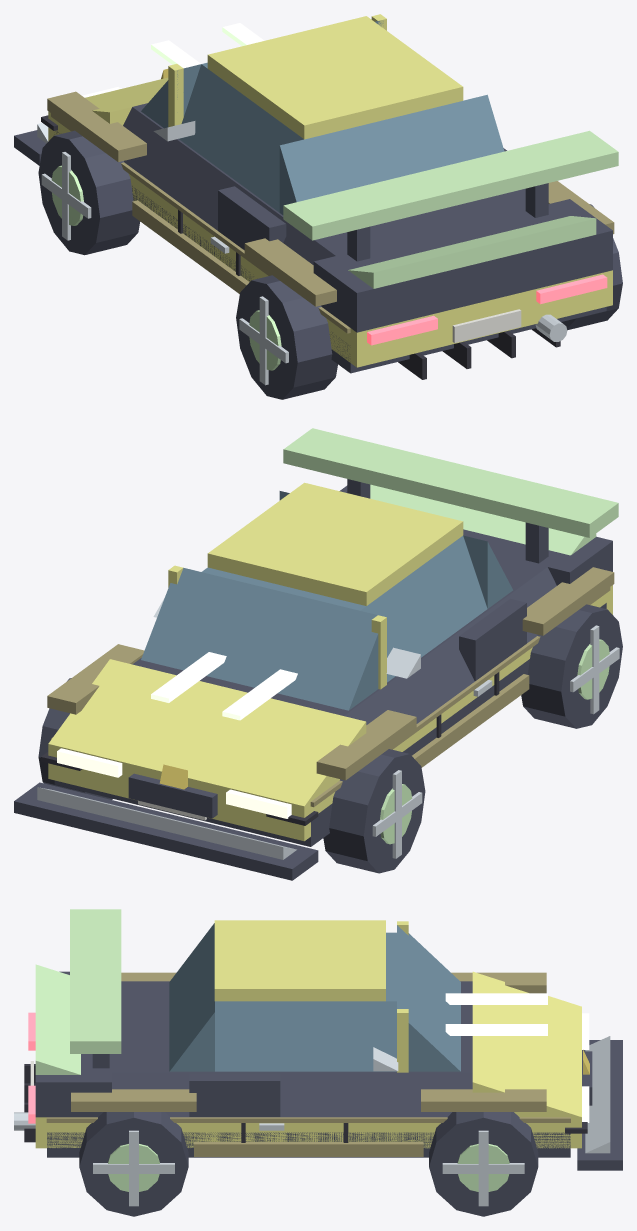
Rendered from downforce_dragon.glb.
3 views of the same model, one above another, from view 1: azimuth 30°, elevation 25°; view 2: azimuth 150°, elevation 25°; view 3: azimuth 270°, elevation 25° (orthographic). The views are drawn at different scales.
Visible parts, largest first — view 1: Roof.290, Tail.090, RearWing.053, RearWindow.190, Body.290, CabinSideL.087, Wheel_RL.250, Wheel_FL.250, ShoulderL.087, Ducktail.064, BodyUpper.087, Arch-1False.166 (+25 smaller); view 2: Nose.087, Windshield.190, Roof.290, RearWing.053, CabinSideL.087, Splitter.057, Wheel_FL.250, Wheel_RL.250, Body.290, ShoulderL.087, Bumper.286, Ducktail.064 (+25 smaller); view 3: Roof.290, CabinSideR.087, Nose.087, ShoulderR.087, RearWing.053, Body.290, Wheel_FR.250, Wheel_RR.250, Windshield.190, BodyUpper.087, RearWindow.190, Sill.286 (+22 smaller).
Part boxes in pixels (x1,y1,x2,y2): Roof.290: (207,16,463,139); Tail.090: (313,199,612,332); RearWing.053: (283,130,618,240); RearWindow.190: (279,94,504,214); Body.290: (48,111,612,367); CabinSideL.087: (178,64,303,212); Wheel_RL.250: (236,275,337,399); Wheel_FL.250: (38,130,140,255); ShoulderL.087: (123,107,335,264); Ducktail.064: (348,216,596,288); BodyUpper.087: (133,103,525,255); Arch-1False.166: (47,91,146,162); Nose.087: (48,659,366,806); Windshield.190: (141,568,378,710); Roof.290: (207,482,463,605); RearWing.053: (283,428,618,537); CabinSideL.087: (360,536,487,682); Splitter.057: (14,782,318,880); Wheel_FL.250: (323,749,425,873); Wheel_RL.250: (521,604,622,728); Body.290: (48,585,612,841); ShoulderL.087: (344,567,556,724); Bumper.286: (37,787,296,859); Ducktail.064: (370,484,596,555); Roof.290: (214,920,385,1001); CabinSideR.087: (215,1001,396,1071); Nose.087: (472,971,581,1117); ShoulderR.087: (112,1072,472,1117); RearWing.053: (70,909,121,1053); Body.290: (35,1117,581,1148); Wheel_FR.250: (429,1112,538,1216); Wheel_RR.250: (79,1112,188,1216); Windshield.190: (397,925,460,1071); BodyUpper.087: (112,981,472,1072); RearWindow.190: (169,923,214,1071); Sill.286: (47,1132,570,1157).
Size of the model in its own units: 3 by 1.86 by 5.35.
